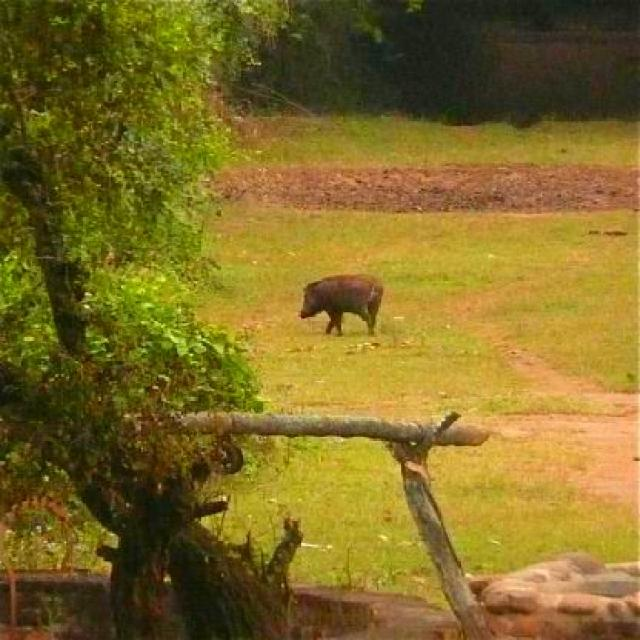Boar: (296, 274, 386, 338)
